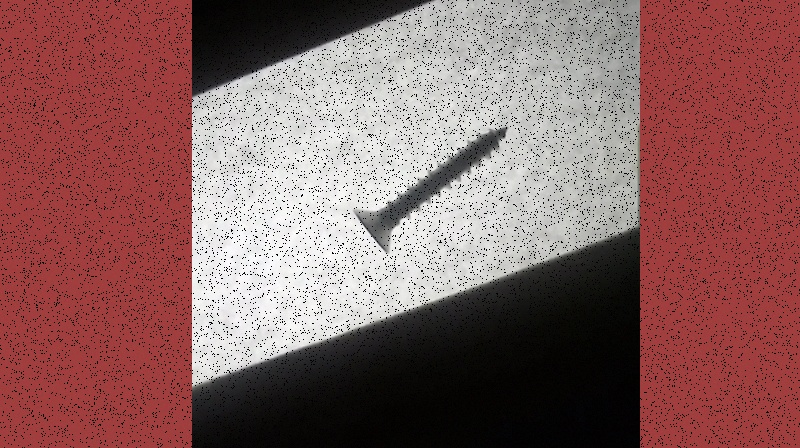S001: (350, 123, 514, 259)
